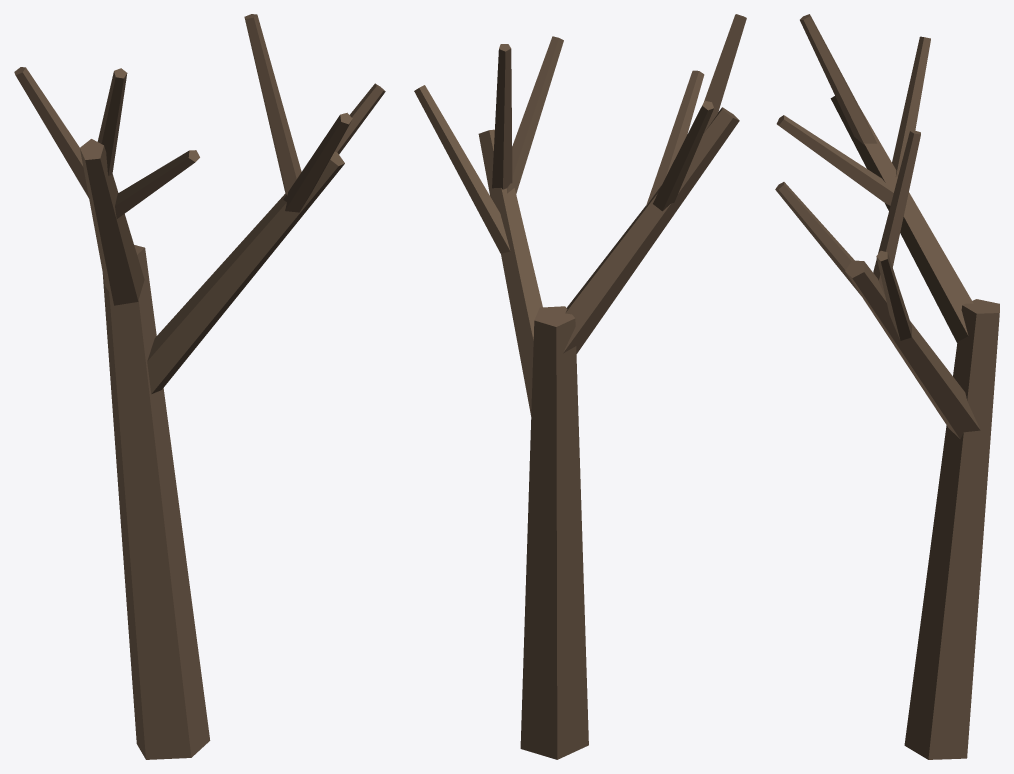
File: SM_DeadTree_B.fbx
3 views of the same model, side by side, from view 1: azimuth 30°, elevation 25°; view 2: azimuth 150°, elevation 25°; view 3: azimuth 270°, elevation 25° (orthographic). The views are drawn at different scales.
Visible parts, largest first — view 1: DeadTree_B; view 2: DeadTree_B; view 3: DeadTree_B.
Boxes of the visible parts, box(x1,y1,x2,y2) form: DeadTree_B: box(14, 14, 385, 759); DeadTree_B: box(414, 14, 746, 759); DeadTree_B: box(775, 14, 999, 759).
Bounding box in the file's own units: 205 × 129 × 433.
